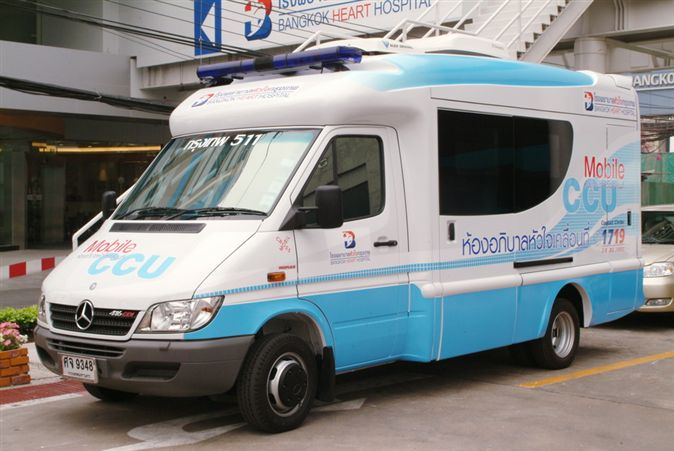van: (31, 41, 647, 435)
